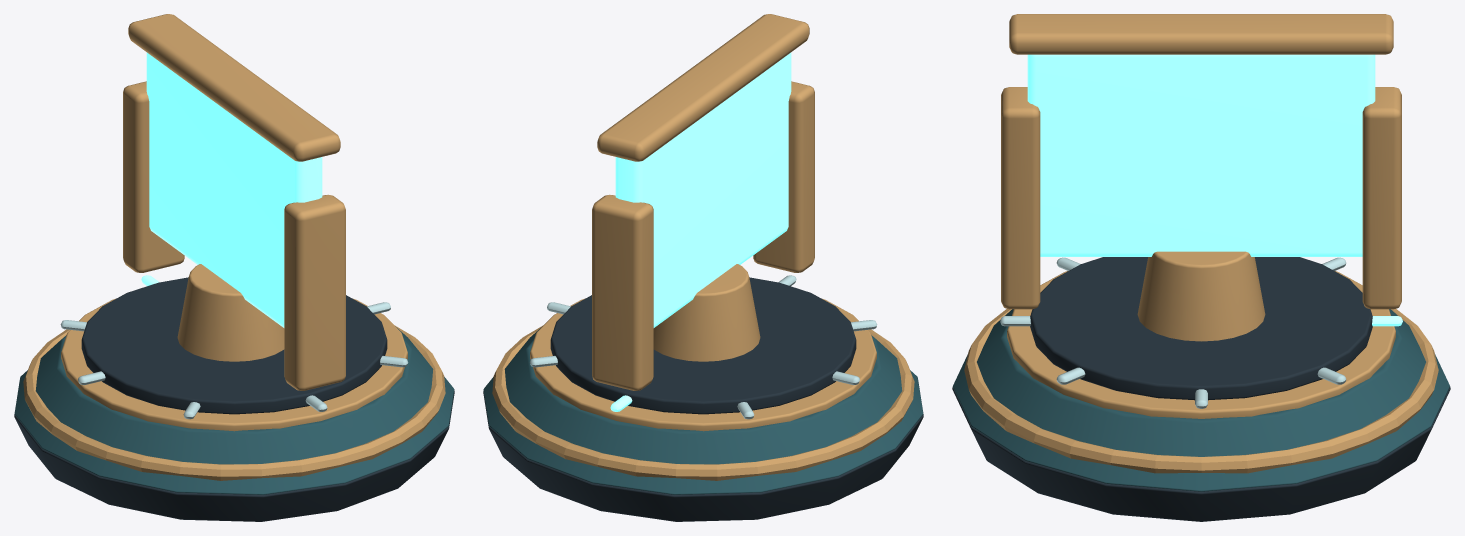
Rendered from filter.glb.
The picture shows the model from 3 angles, left to right: view 1: azimuth 30°, elevation 25°; view 2: azimuth 150°, elevation 25°; view 3: azimuth 270°, elevation 25°; orthographic projection. The views are drawn at different scales.
Visible parts, largest first — view 1: filter; view 2: filter; view 3: filter.
Part boxes in pixels (box(x1,y1,x2,y2)): filter: box(14, 14, 454, 521); filter: box(483, 14, 923, 521); filter: box(952, 14, 1450, 521).
Bounding box in the file's own units: 1.08 × 0.956 × 1.08.
